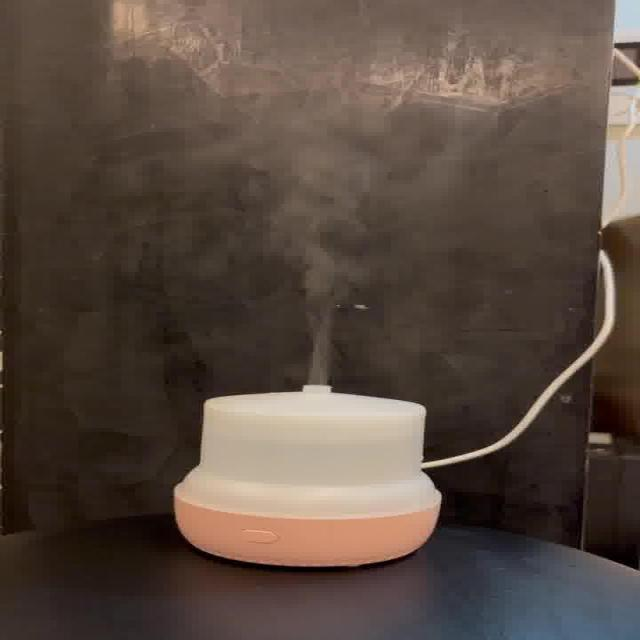fire: (217, 111, 430, 379)
